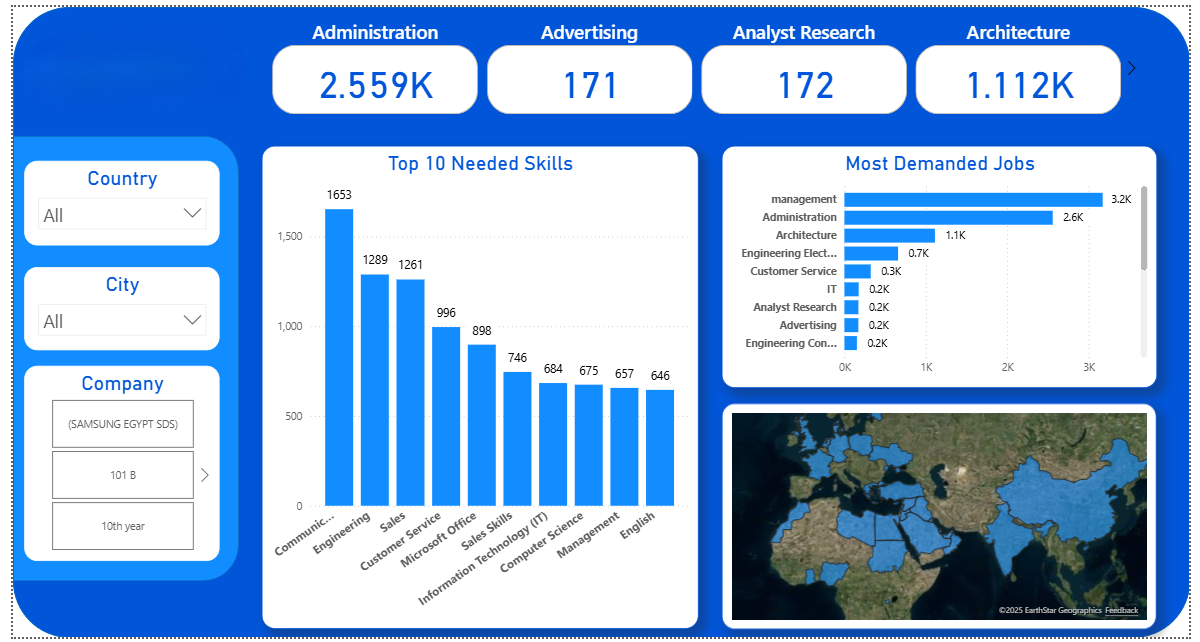

The dashboard page shown, as its layout file describes it:
{"tool":"powerbi","page":{"name":"Page 2","canvas":[1345,720],"ordinal":2},"visuals":[{"type":"shape","box":[0,0,1345.3,721],"z":0},{"type":"columnChart","title":"Top 10 Needed Skills","fields":{"Category":["Skills.skills_list"],"Y":["CountNonNull(Skills.skills_list)"]},"box":[284.1,158.6,498.9,552.2],"z":3000},{"type":"cardVisual","fields":{"Data":["CountNonNull(Wuzzuf_data.job_category)"],"Rows":["Wuzzuf_data.job_category"]},"box":[271.1,11.5,1022.3,116.8],"z":4000},{"type":"shape","box":[0,147.1,258.1,509],"z":5000},{"type":"slicer","title":"Country","fields":{"Values":["Wuzzuf_data.Country"]},"box":[13,175.9,223.5,96.6],"z":6000},{"type":"slicer","title":"City","fields":{"Values":["Wuzzuf_data.City"]},"box":[13,297,223.5,95.2],"z":7000},{"type":"slicer","title":"Company","fields":{"Values":["Wuzzuf_data.companies"]},"box":[13,409.5,223.5,223.5],"z":8000},{"type":"image","box":[13,11.5,258.1,128.3],"z":9000},{"type":"barChart","title":"Most Demanded Jobs","fields":{"Category":["Wuzzuf_data.job_category"],"Y":["CountNonNull(Wuzzuf_data.job_category)"]},"box":[810.3,158.6,497.5,276.8],"z":9001},{"type":"azureMap","title":"Top 10 Needed Skills","fields":{"Category":["Wuzzuf_data.Country"]},"box":[810,452.9,497.1,258.6],"z":9002}]}

Visuals, with their boxes in screenshot pixels (x1, y1, x2, y2), scaled from the page's 1345x720 canvas onto the 1200x642 screenshot:
shape: 0/0/1199/641
"Top 10 Needed Skills" columnChart: 253/141/699/634
cardVisual - CountNonNull(Wuzzuf_data.job_category) x Wuzzuf_data.job_category: 242/10/1154/114
shape: 0/131/230/585
"Country" slicer: 12/157/211/243
"City" slicer: 12/265/211/350
"Company" slicer: 12/365/211/564
image: 12/10/242/125
"Most Demanded Jobs" barChart: 723/141/1167/388
"Top 10 Needed Skills" azureMap: 723/404/1166/634
